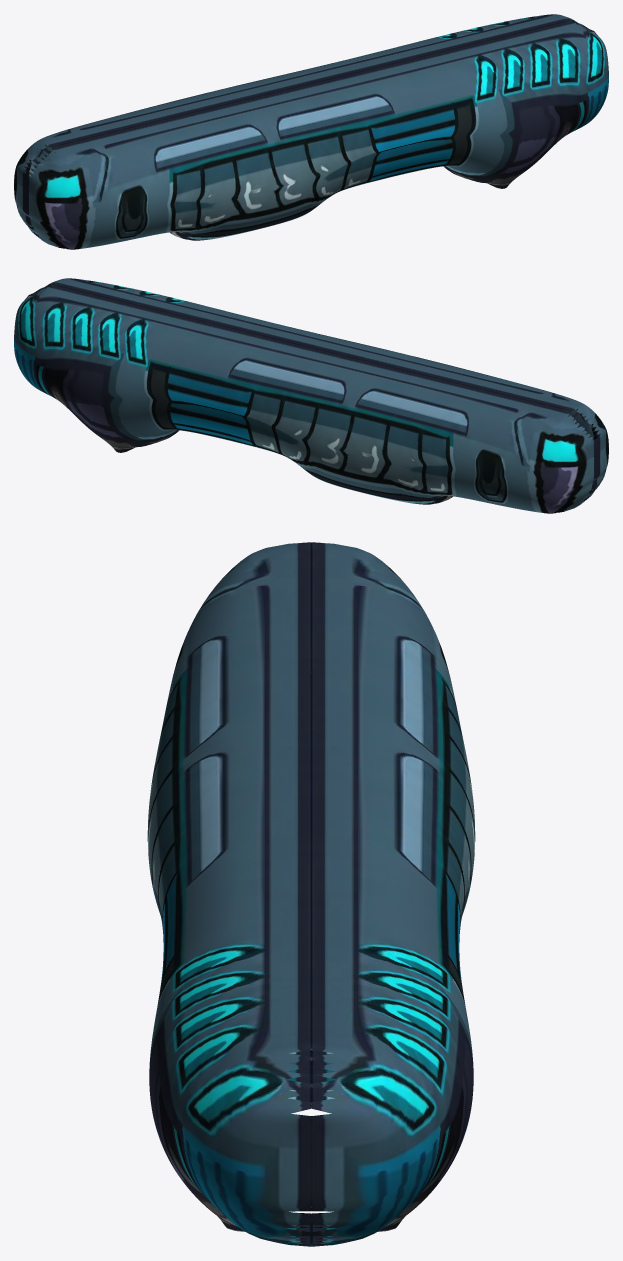
The model's file is deck_chassis.glb.
3 renders of one model, top to bottom at view 1: azimuth 30°, elevation 25°; view 2: azimuth 150°, elevation 25°; view 3: azimuth 270°, elevation 25°, orthographic. The views are drawn at different scales.
Parts seen in each view (by area): view 1: deck_chassis; view 2: deck_chassis; view 3: deck_chassis.
Boxes of the visible parts, x1,y1,x2,y2 form: deck_chassis: (14, 14, 608, 249); deck_chassis: (14, 278, 608, 513); deck_chassis: (147, 542, 475, 1246).
Bounding box in the file's own units: 0.989 × 0.2171 × 0.2454.
1 material, 1 textured.
